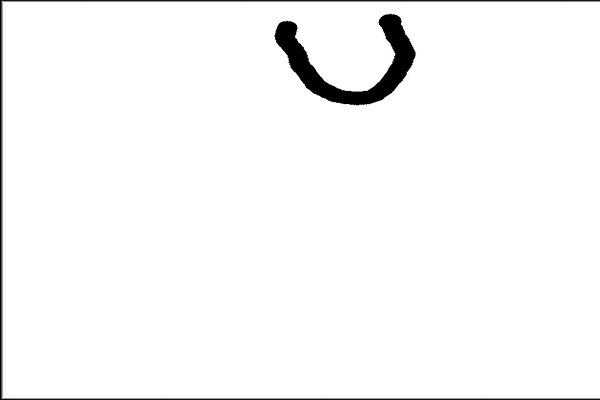U: (262, 11, 426, 107)
